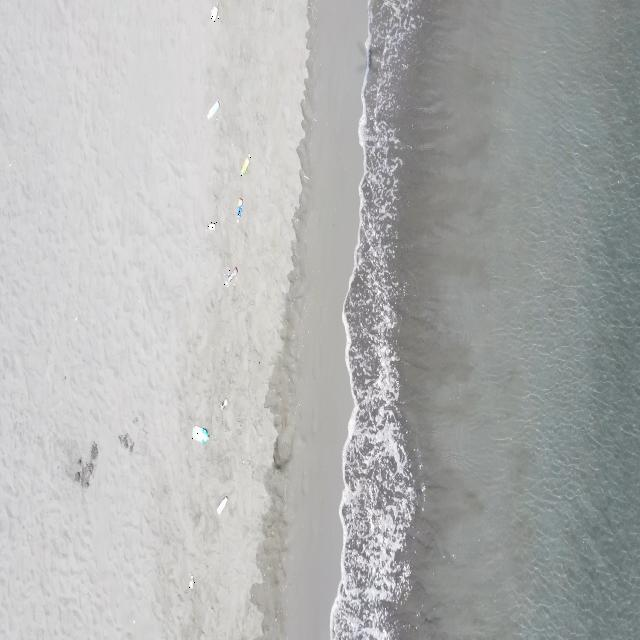Garbage: (74, 443, 98, 487), (192, 426, 207, 443), (118, 432, 131, 451), (207, 100, 219, 119), (224, 267, 236, 286), (216, 495, 227, 513), (240, 155, 249, 175), (238, 197, 243, 220), (207, 220, 216, 230), (212, 5, 218, 20), (187, 575, 193, 588), (220, 397, 227, 408)
